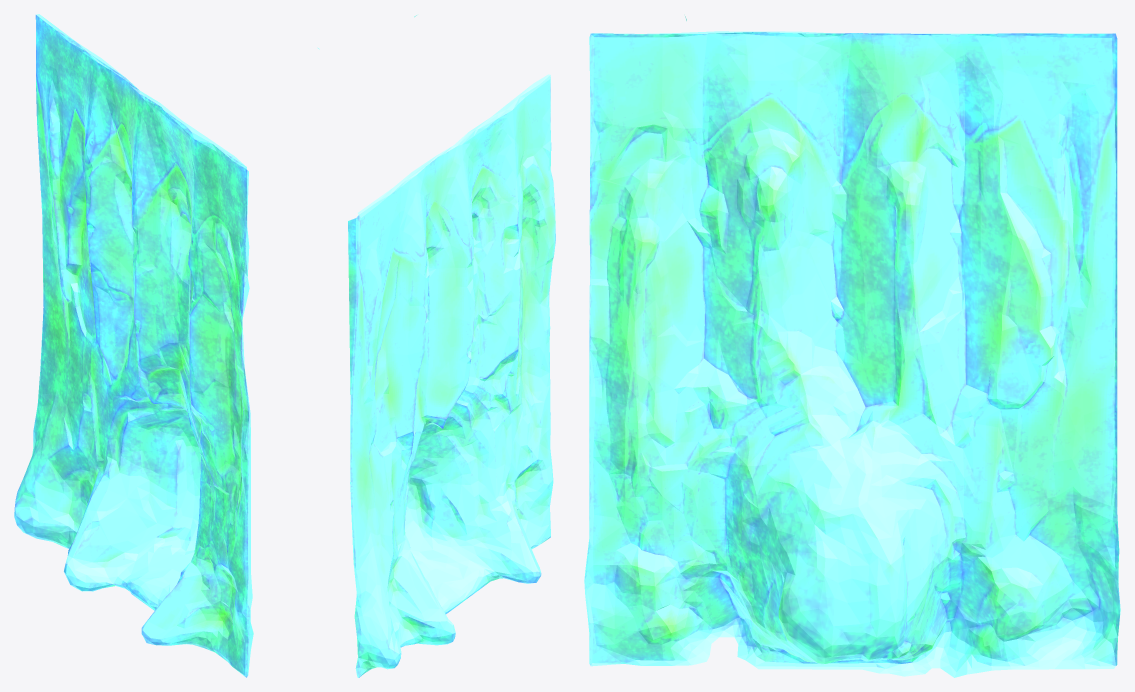
The model's file is FWallGate.fbx.
The picture shows the model from 3 angles, left to right: view 1: azimuth 30°, elevation 25°; view 2: azimuth 150°, elevation 25°; view 3: azimuth 270°, elevation 25°; orthographic projection. The views are drawn at different scales.
Parts seen in each view (by area): view 1: HL_FortressWall_Gate.mo; view 2: HL_FortressWall_Gate.mo; view 3: HL_FortressWall_Gate.mo.
Part boxes in pixels (x1,y1,x2,y2): HL_FortressWall_Gate.mo: [14, 14, 319, 677]; HL_FortressWall_Gate.mo: [348, 15, 555, 677]; HL_FortressWall_Gate.mo: [584, 16, 1120, 677].
Size of the model in its own units: 2293 by 8158 by 5427.
